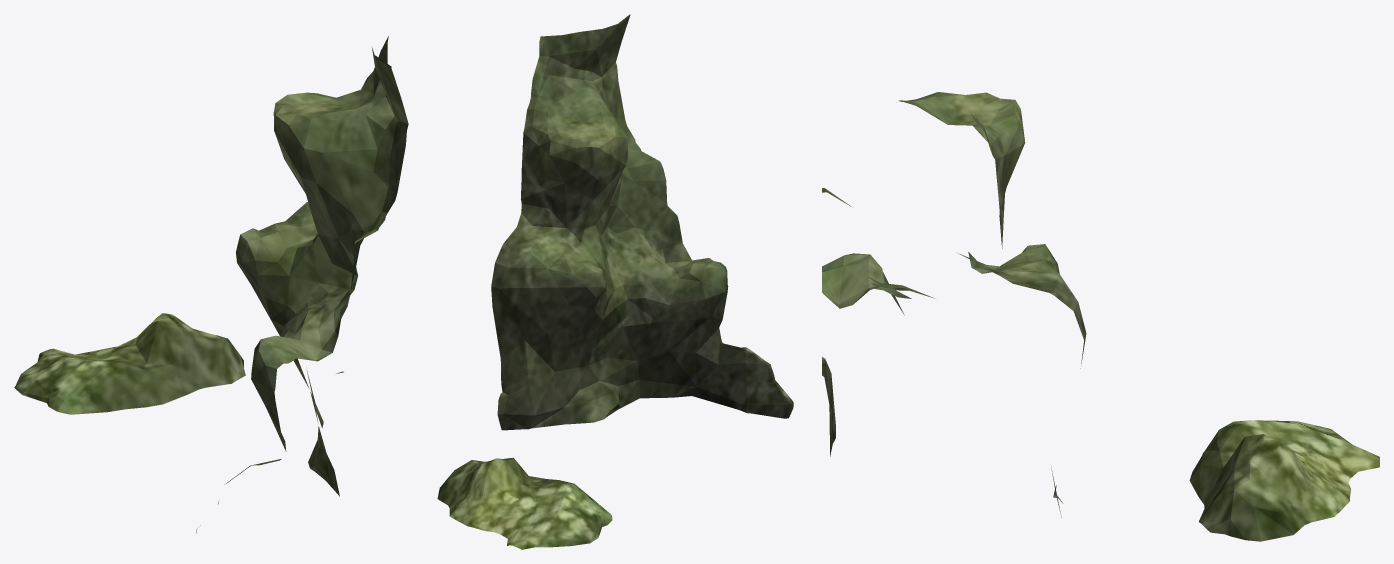
The picture shows the model from 3 angles, left to right: view 1: azimuth 30°, elevation 25°; view 2: azimuth 150°, elevation 25°; view 3: azimuth 270°, elevation 25°; orthographic projection. The views are drawn at different scales.
Size of the model in its own units: 1.75 by 2.95 by 2.95.
Materials: 2 (2 with a texture image).
